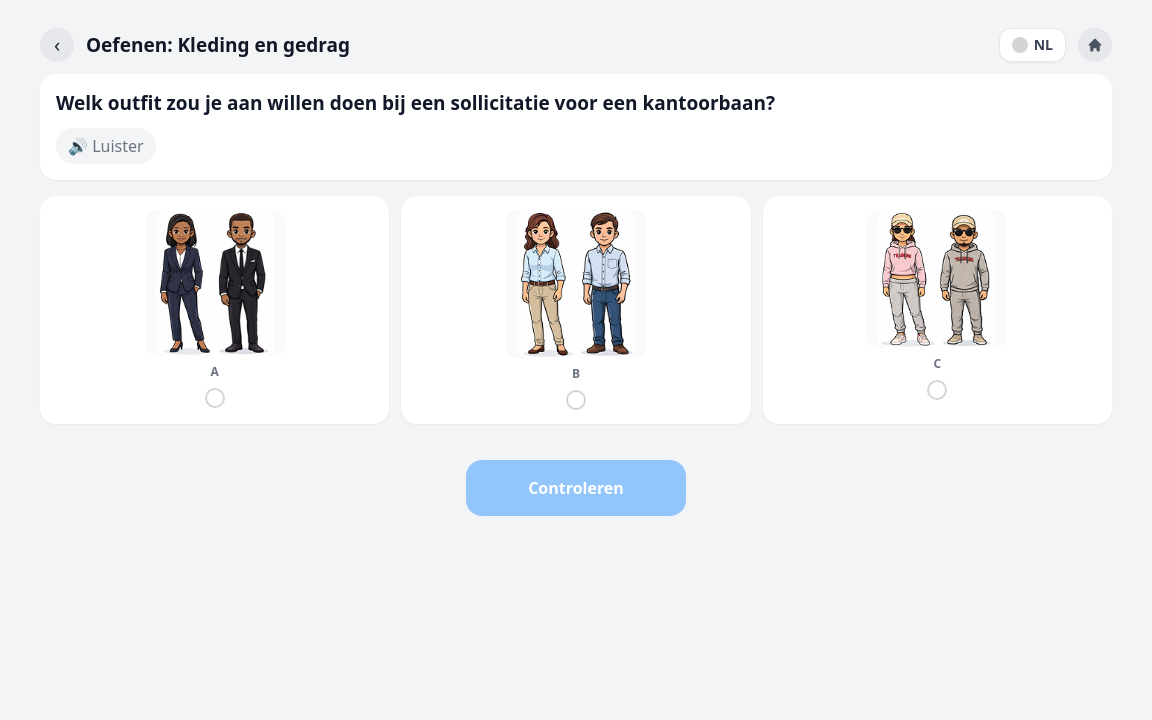
Test: selecting outfit A (correct) shows positive feedback
Click the button "A": (215, 310) [40,196,389,424]
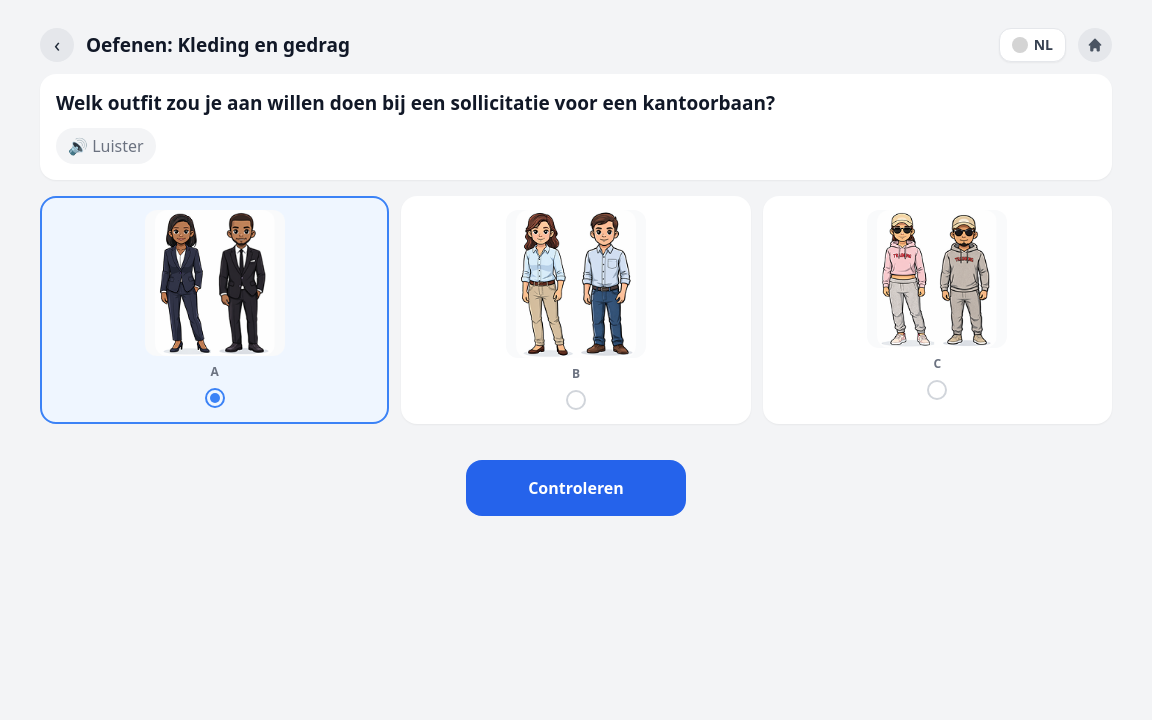
Click the button "Controleren": (576, 488) [466,460,686,516]
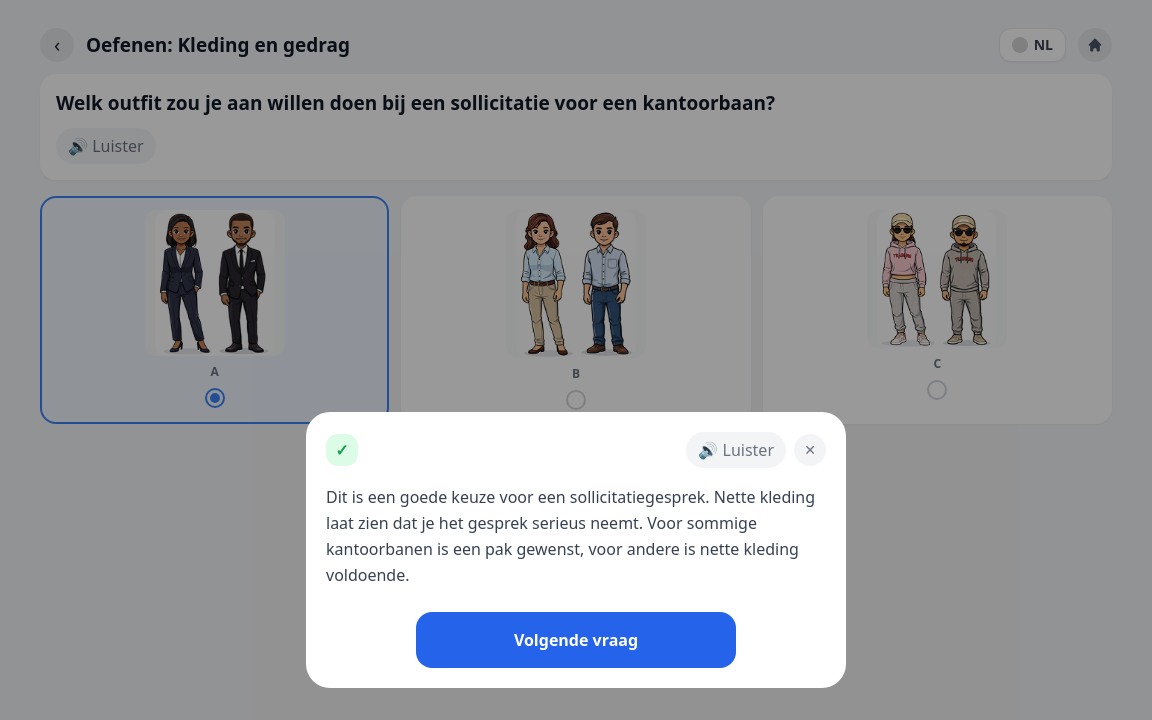
Result: the text "✓" is shown at [326,434,358,466]
Result: the text "goede keuze" is shown at [326,486,815,586]
